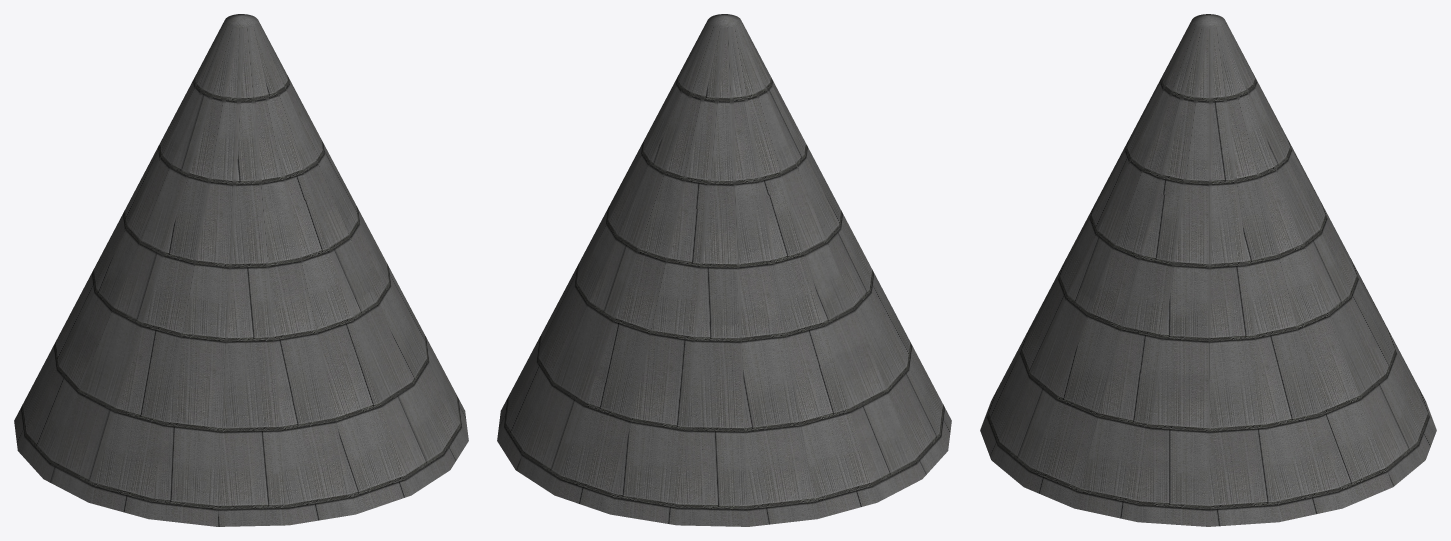
File: Cone_roof_clg.fbx
The picture shows the model from 3 angles, left to right: view 1: azimuth 30°, elevation 25°; view 2: azimuth 150°, elevation 25°; view 3: azimuth 270°, elevation 25°; orthographic projection.
Parts seen in each view (by area): view 1: pCone1; view 2: pCone1; view 3: pCone1.
Boxes of the visible parts, x1,y1,x2,y2 form: pCone1: (14, 14, 468, 526); pCone1: (497, 14, 951, 526); pCone1: (980, 14, 1436, 526).
Bounding box in the file's own units: 20 × 20 × 20.
Materials: 1 (1 with a texture image).
